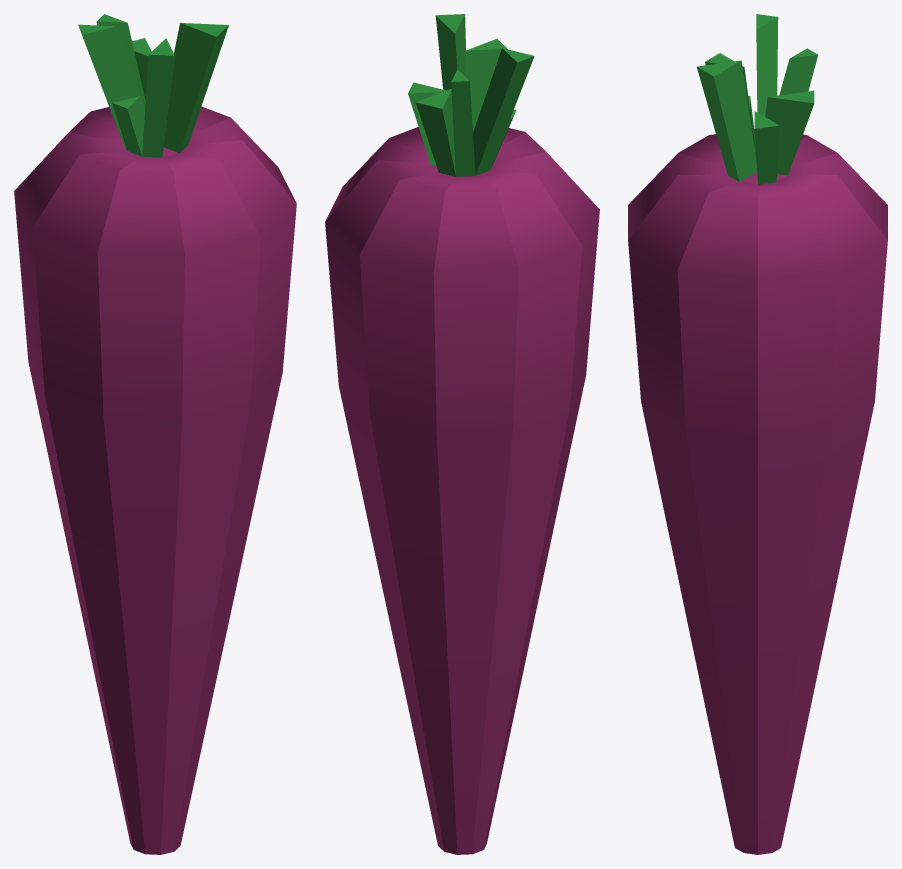
File: Carotte.FBX
3 renders of one model, left to right at view 1: azimuth 30°, elevation 25°; view 2: azimuth 150°, elevation 25°; view 3: azimuth 270°, elevation 25°, orthographic. The views are drawn at different scales.
Parts seen in each view (by area): view 1: pCylinder1; view 2: pCylinder1; view 3: pCylinder1.
Part boxes in pixels (box(x1,y1,x2,y2)): pCylinder1: box(14, 14, 296, 854); pCylinder1: box(325, 14, 599, 854); pCylinder1: box(628, 14, 887, 854).
Size of the model in its own units: 2.09 by 6.71 by 1.99.
